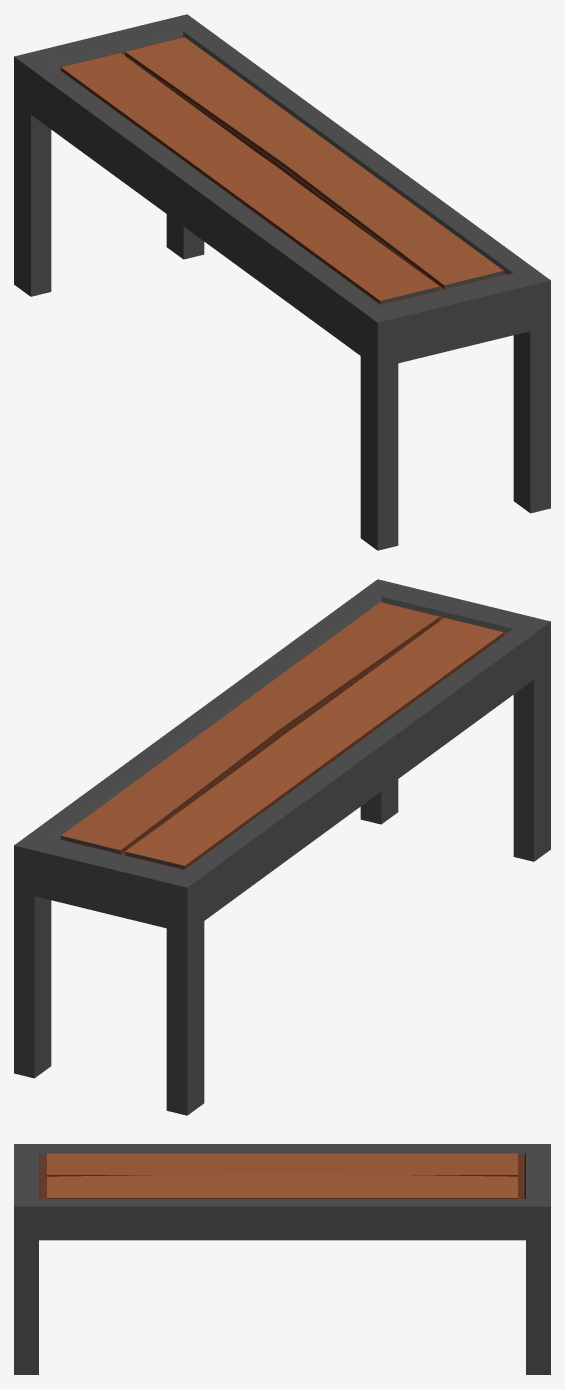
The model's file is bench.fbx.
The picture shows the model from 3 angles, top to bottom: view 1: azimuth 30°, elevation 25°; view 2: azimuth 150°, elevation 25°; view 3: azimuth 270°, elevation 25°; orthographic projection. The views are drawn at different scales.
Parts seen in each view (by area): view 1: Bench; view 2: Bench; view 3: Bench.
Boxes of the visible parts, x1,y1,x2,y2 form: Bench: (14, 14, 550, 550); Bench: (14, 579, 550, 1115); Bench: (14, 1144, 550, 1374).
Bounding box in the file's own units: 865 × 1106 × 3145.
